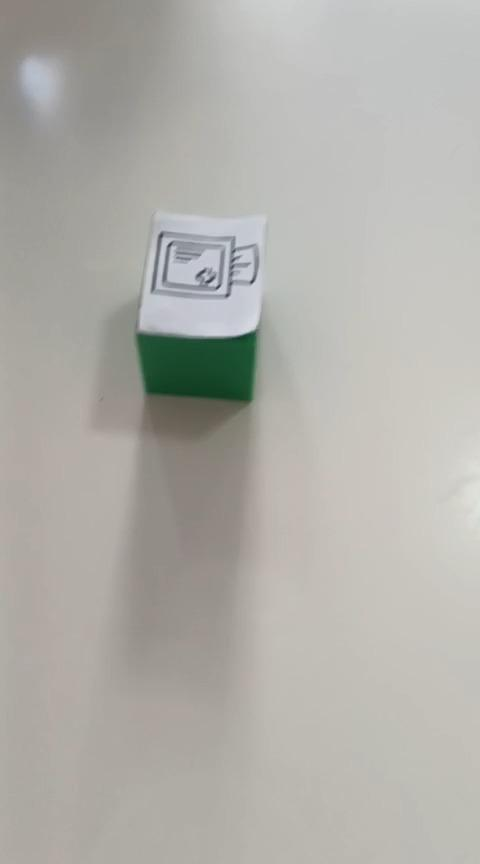Gauze: (133, 208, 268, 403)
